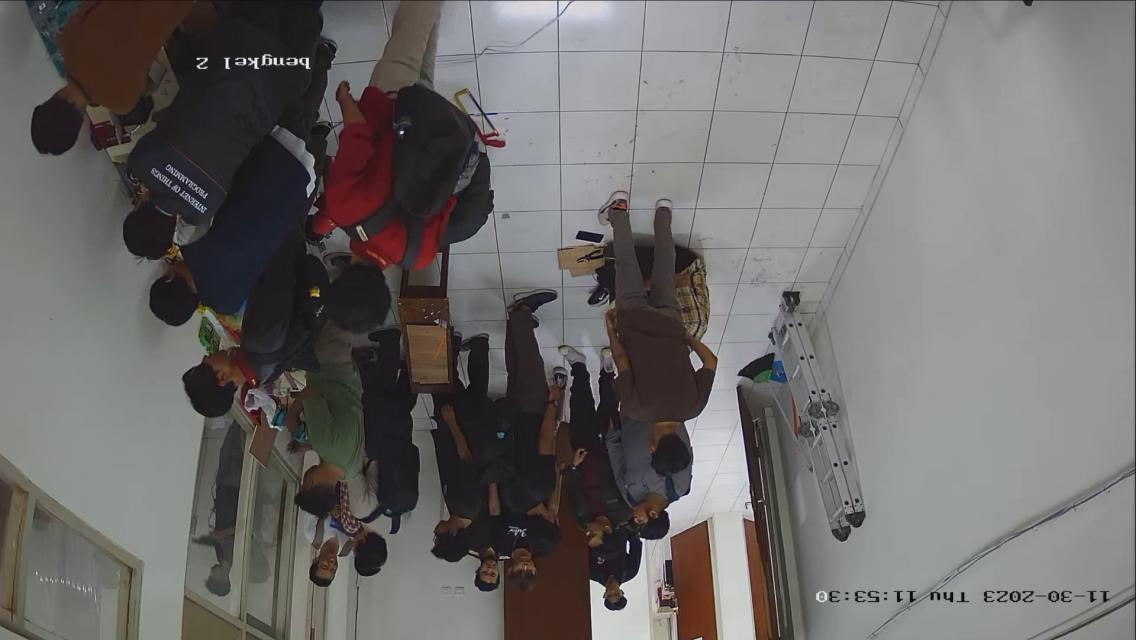Crowd: (263, 205, 739, 621)
